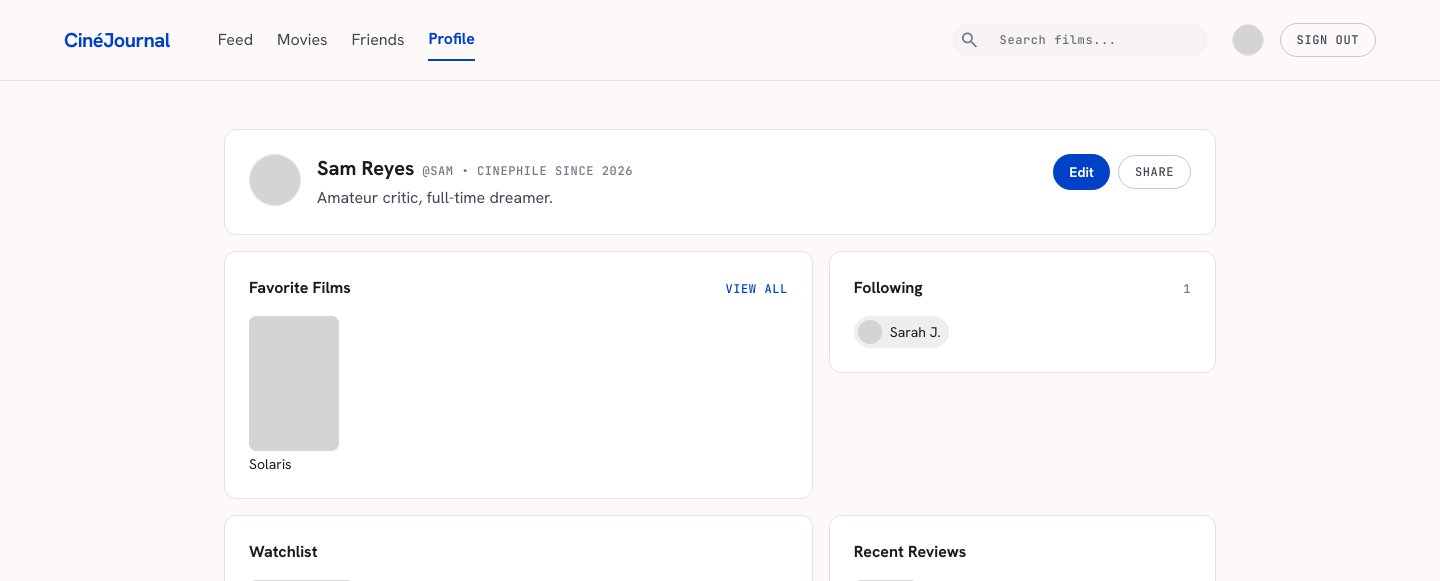
Test case: the header card › opens the bio editor from "Edit" and saves what you write
The image size is (1440, 581).
Click the button "Edit" at (1082, 172), box [1053,154,1110,190]
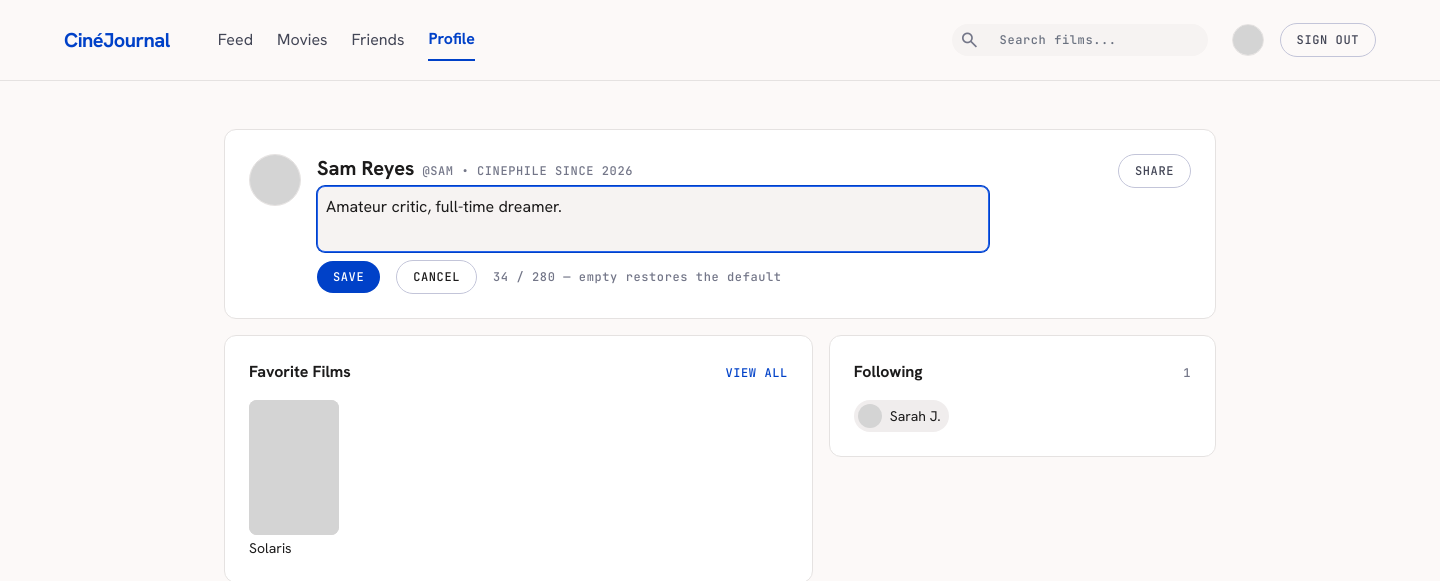
Replace the text in the text box named "Your bio" with "Watches too much Tarkovsky." at (653, 219), box [317,186,989,252]
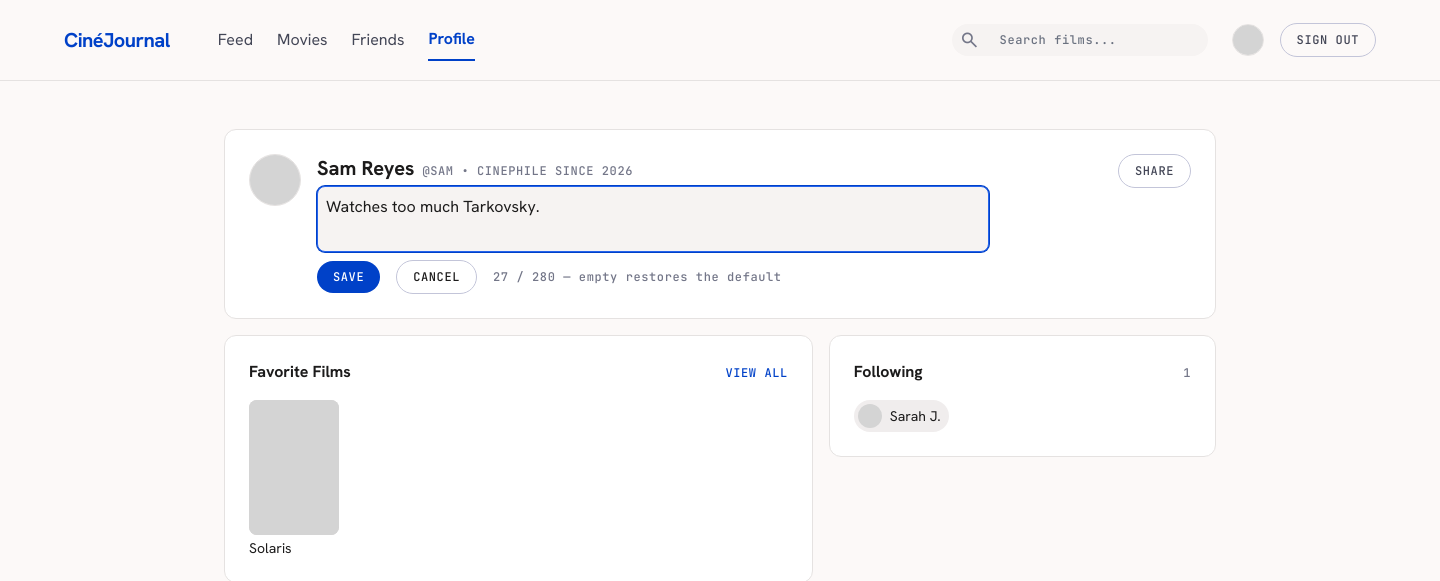
Click the button "Save" at (349, 277), box [317,261,380,293]
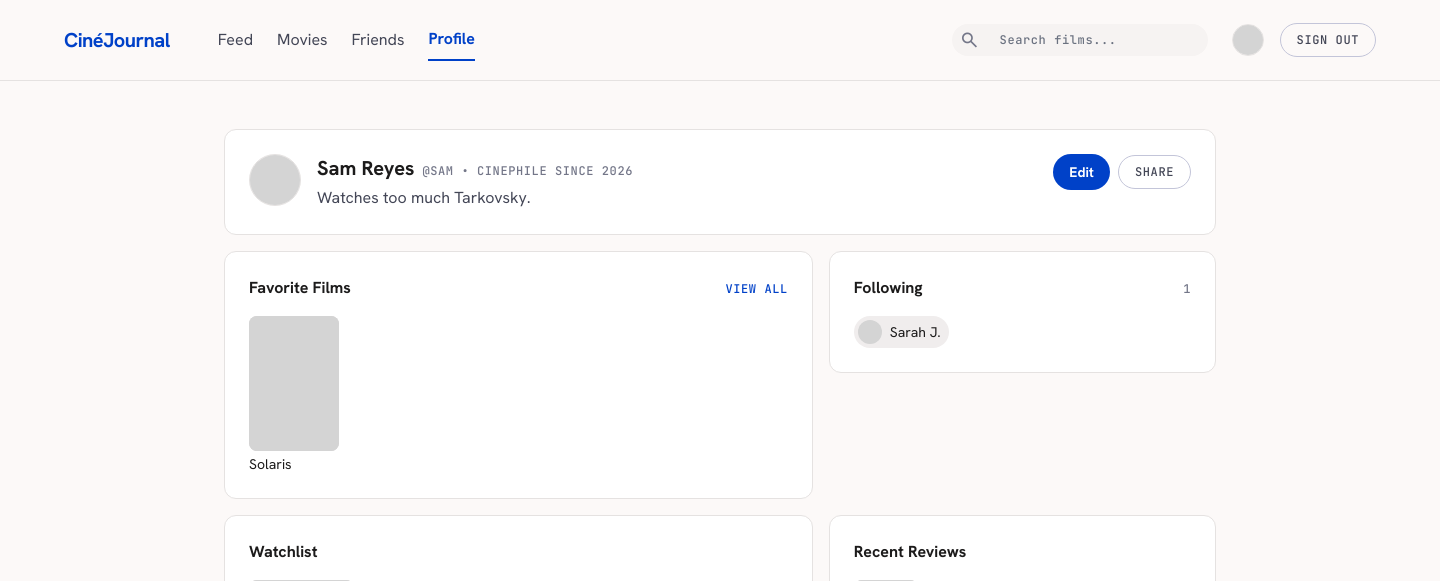
Check: the text "Watches too much Tarkovsky." is shown, box [317,187,531,208]
